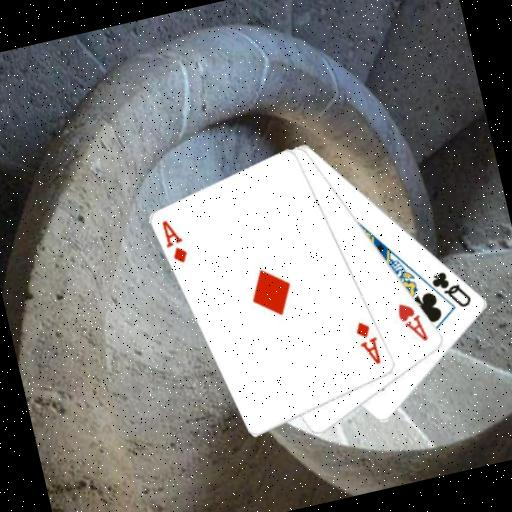AD: (351, 316, 385, 370), (158, 215, 191, 268)
AH: (393, 296, 432, 347)
QC: (426, 263, 475, 316)
